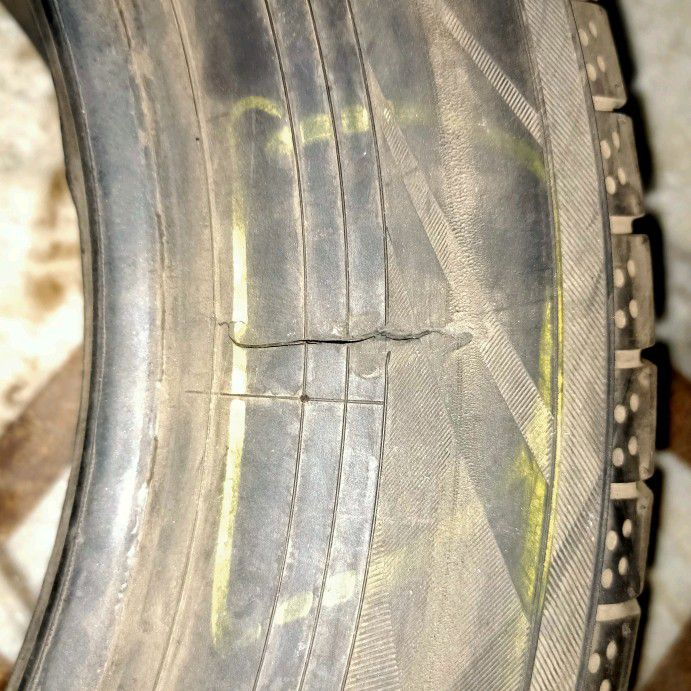cut: (213, 327, 461, 352)
